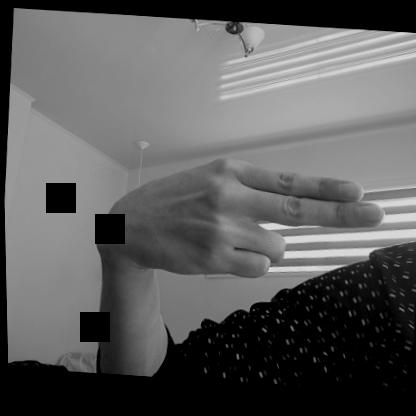H: (82, 143, 389, 290)
